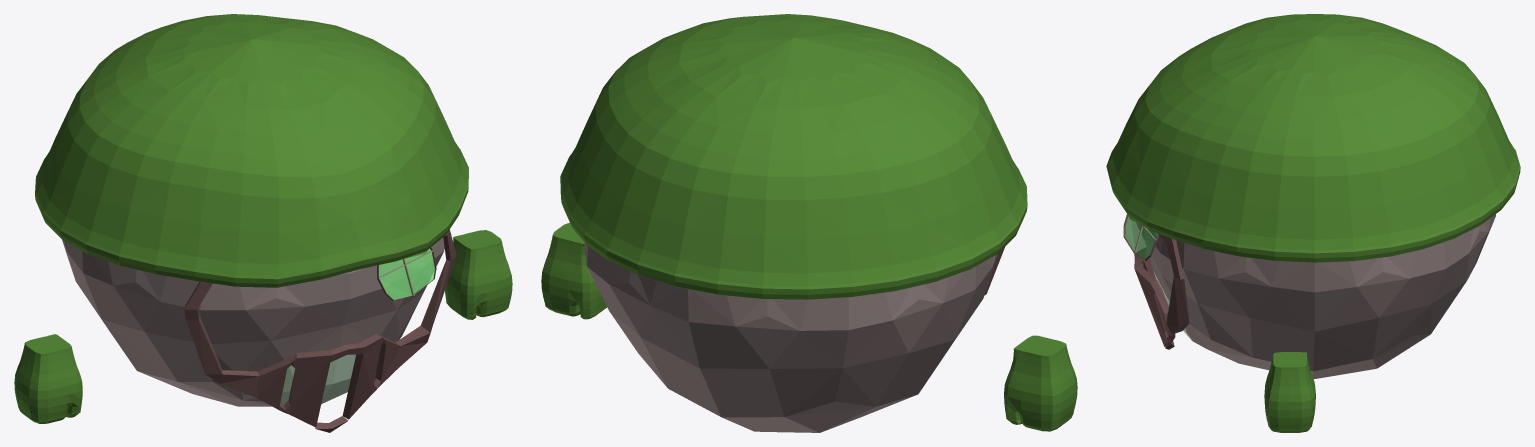
The model's file is round_PinPoint_provisoryTexture.fbx.
3 renders of one model, left to right at view 1: azimuth 30°, elevation 25°; view 2: azimuth 150°, elevation 25°; view 3: azimuth 270°, elevation 25°, orthographic. The views are drawn at different scales.
Parts seen in each view (by area): view 1: pCube4; view 2: pCube4; view 3: pCube4.
Boxes of the visible parts, bbox=[...] form: pCube4: bbox=[14, 14, 512, 432]; pCube4: bbox=[541, 14, 1077, 432]; pCube4: bbox=[1106, 14, 1520, 432].
Bounding box in the file's own units: 51 × 35.41 × 40.67.
